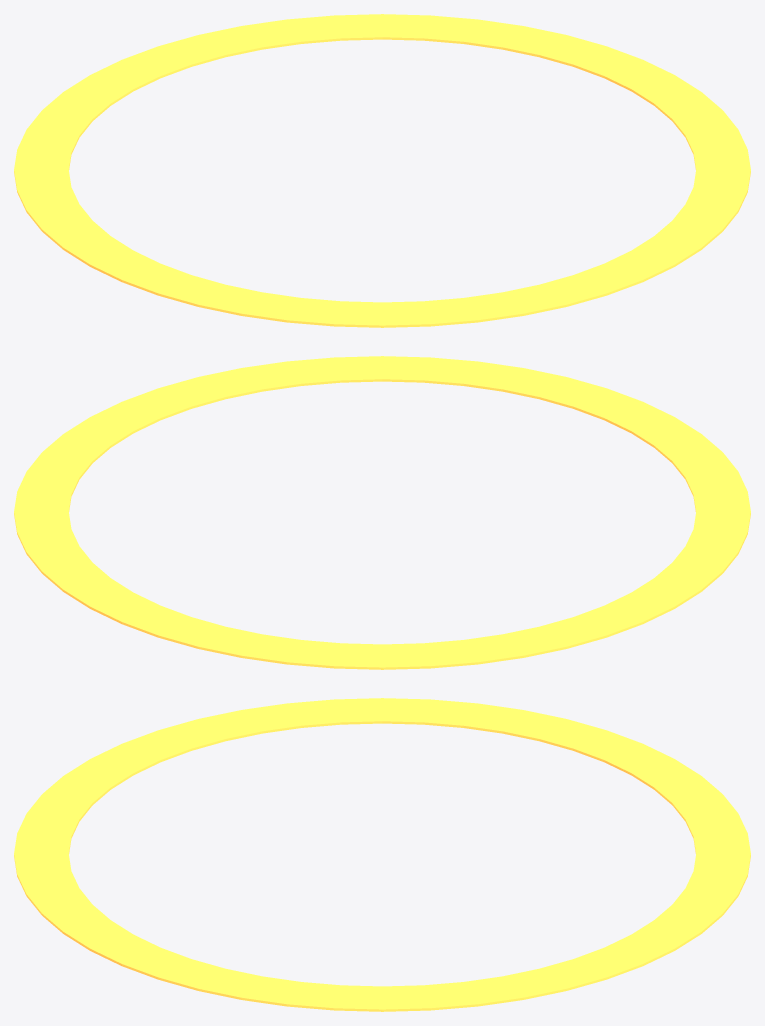
Rendered from court_lava_ring.glb.
3 views of the same model, one above another, from view 1: azimuth 30°, elevation 25°; view 2: azimuth 150°, elevation 25°; view 3: azimuth 270°, elevation 25° (orthographic).
Visible parts, largest first — view 1: court_lava_ring.001; view 2: court_lava_ring.001; view 3: court_lava_ring.001.
Part boxes in pixels (<box>): court_lava_ring.001: <box>14,14,750,327</box>; court_lava_ring.001: <box>14,356,750,669</box>; court_lava_ring.001: <box>14,698,750,1011</box>.
Bounding box in the file's own units: 14.8 × 0.0506 × 14.8.
